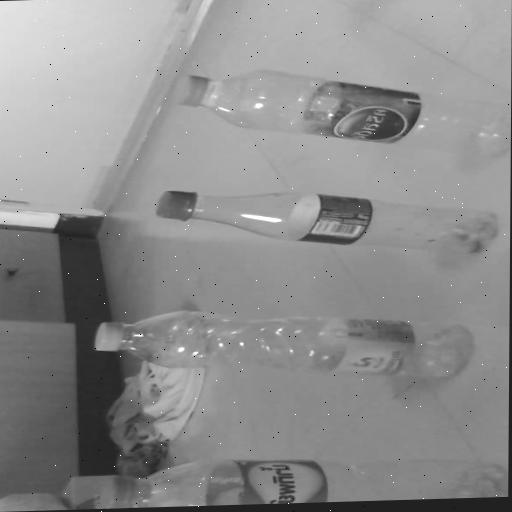bottle: (169, 59, 508, 163), (93, 301, 480, 387), (155, 180, 497, 260), (99, 448, 509, 509)
